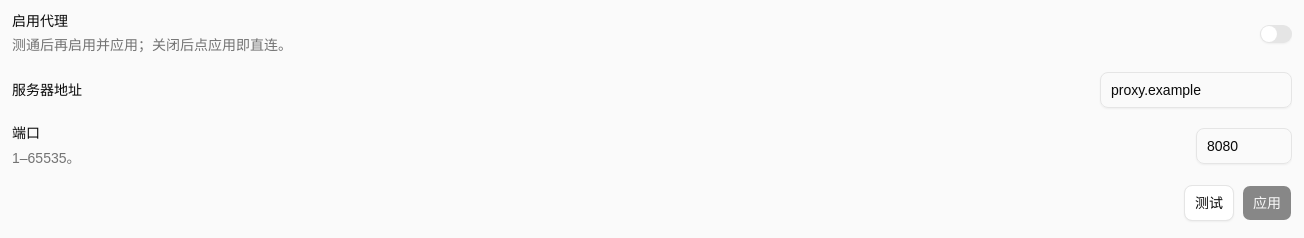
clears verification when host changes
The image size is (1304, 238).
Expected: the field labelled "服务器地址" is enabled, top-left (1100, 72), bottom-right (1292, 108)
Click the button "测试" at (1209, 202), box top-left (1184, 184), bottom-right (1234, 220)
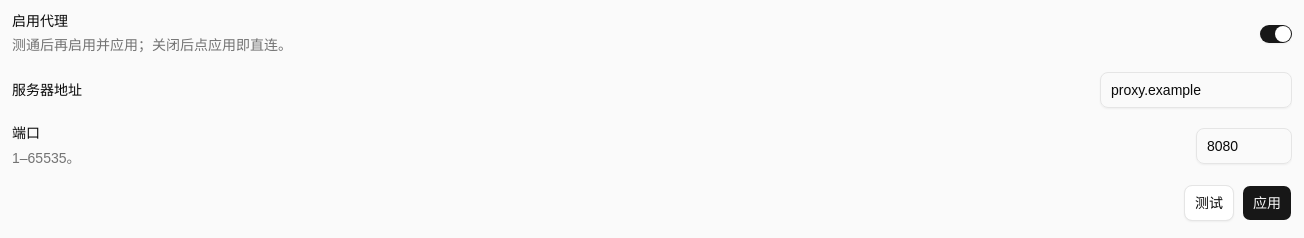
Replace the text in the field labelled "服务器地址" with "other.example" at (1196, 90), box top-left (1100, 72), bottom-right (1292, 108)
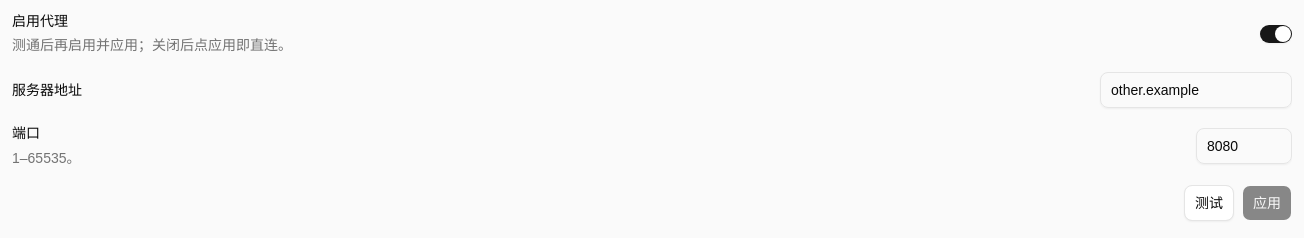
Expected: the button "应用" is disabled, top-left (1242, 184), bottom-right (1292, 220)
